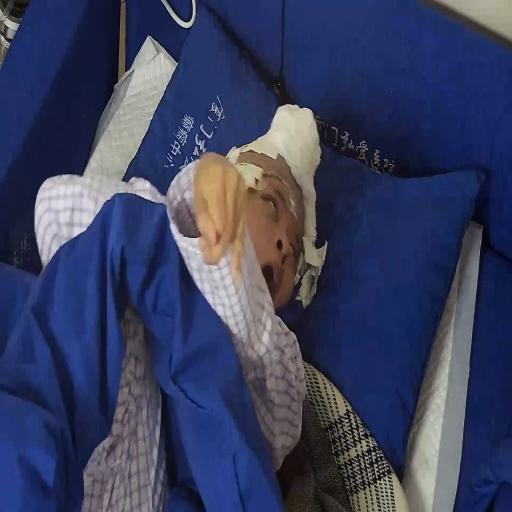Seizure: (233, 137, 307, 311)
